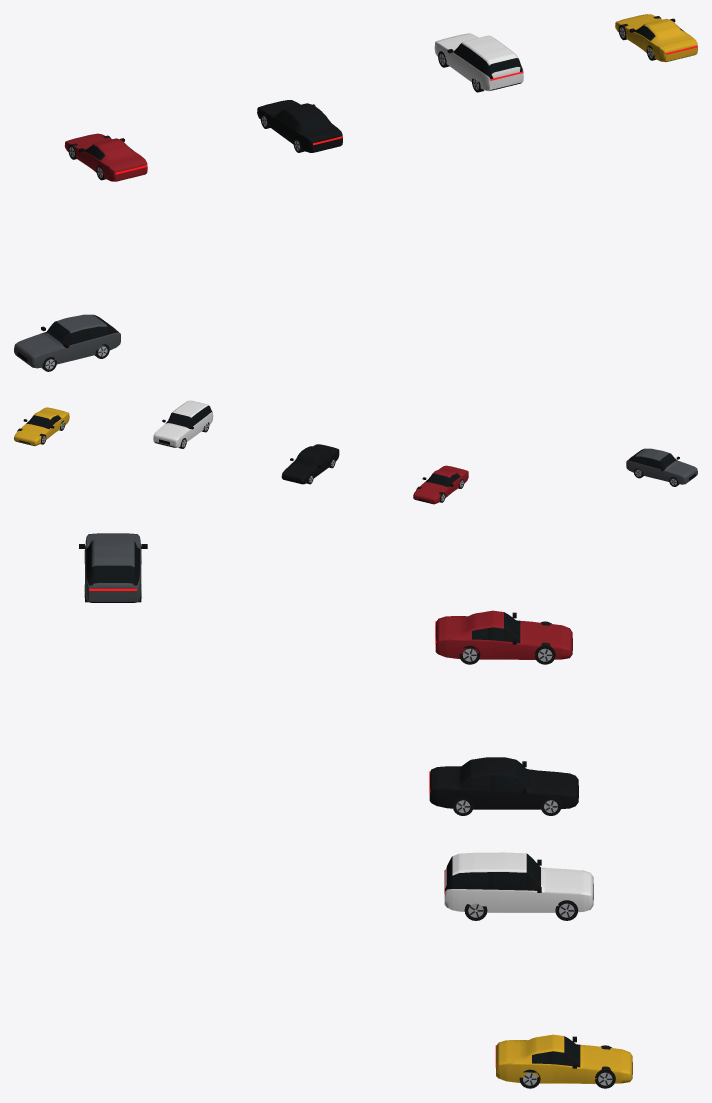
File: pitlane_performance_placeholder_cars.glb
3 renders of one model, top to bottom at view 1: azimuth 30°, elevation 25°; view 2: azimuth 150°, elevation 25°; view 3: azimuth 270°, elevation 25°, orthographic. The views are drawn at different scales.
Parts seen in each view (by area): view 1: P14_CAR_05_Crossover_CarPaintGraphite, P14_CAR_03_Suv_CarPaintWhite, P14_CAR_02_Sedan_CarPaintBlack, P14_CAR_01_Coupe_CarPaintRed, P14_CAR_04_Coupe_CarPaintYellow; view 2: P14_CAR_03_Suv_CarPaintWhite, P14_CAR_05_Crossover_CarPaintGraphite, P14_CAR_02_Sedan_CarPaintBlack, P14_CAR_04_Coupe_CarPaintYellow, P14_CAR_01_Coupe_CarPaintRed; view 3: P14_CAR_03_Suv_CarPaintWhite, P14_CAR_02_Sedan_CarPaintBlack, P14_CAR_04_Coupe_CarPaintYellow, P14_CAR_01_Coupe_CarPaintRed, P14_CAR_05_Crossover_CarPaintGraphite.
Boxes of the visible parts, x1,y1,x2,y2 form: P14_CAR_05_Crossover_CarPaintGraphite: [14, 314, 120, 371]; P14_CAR_03_Suv_CarPaintWhite: [434, 33, 523, 92]; P14_CAR_02_Sedan_CarPaintBlack: [257, 100, 342, 152]; P14_CAR_01_Coupe_CarPaintRed: [64, 133, 147, 181]; P14_CAR_04_Coupe_CarPaintYellow: [615, 14, 697, 62]; P14_CAR_03_Suv_CarPaintWhite: [153, 400, 213, 448]; P14_CAR_05_Crossover_CarPaintGraphite: [626, 448, 697, 486]; P14_CAR_02_Sedan_CarPaintBlack: [281, 444, 339, 484]; P14_CAR_04_Coupe_CarPaintYellow: [14, 407, 69, 446]; P14_CAR_01_Coupe_CarPaintRed: [413, 465, 468, 504]; P14_CAR_03_Suv_CarPaintWhite: [444, 852, 593, 920]; P14_CAR_02_Sedan_CarPaintBlack: [429, 757, 578, 815]; P14_CAR_04_Coupe_CarPaintYellow: [495, 1034, 632, 1088]; P14_CAR_01_Coupe_CarPaintRed: [435, 610, 572, 664]; P14_CAR_05_Crossover_CarPaintGraphite: [79, 533, 147, 602].
Size of the model in its own units: 42.45 by 3.41 by 18.43.
